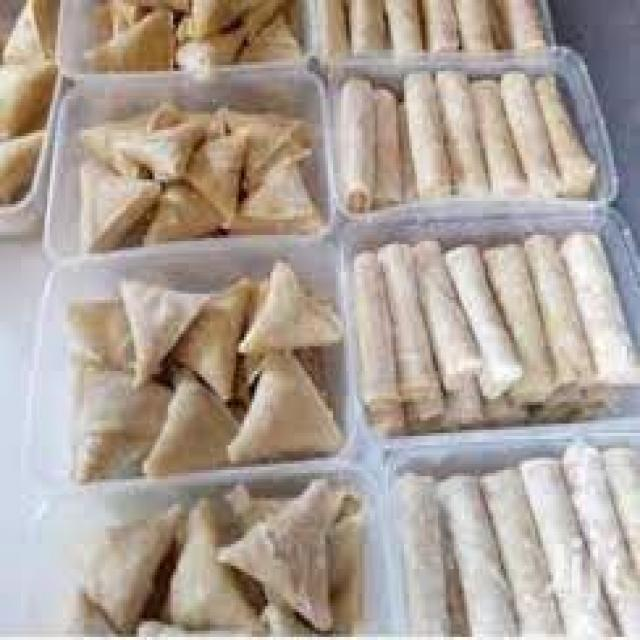Samosa: (56, 0, 340, 640)
Spring Rolls: (320, 0, 640, 640)
